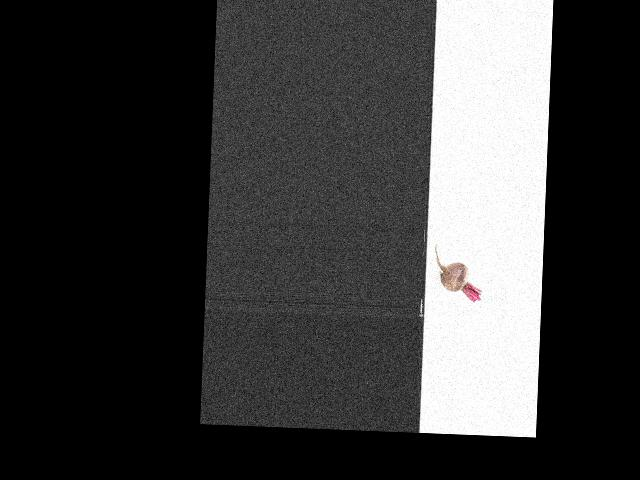beet: (432, 243, 483, 301)
